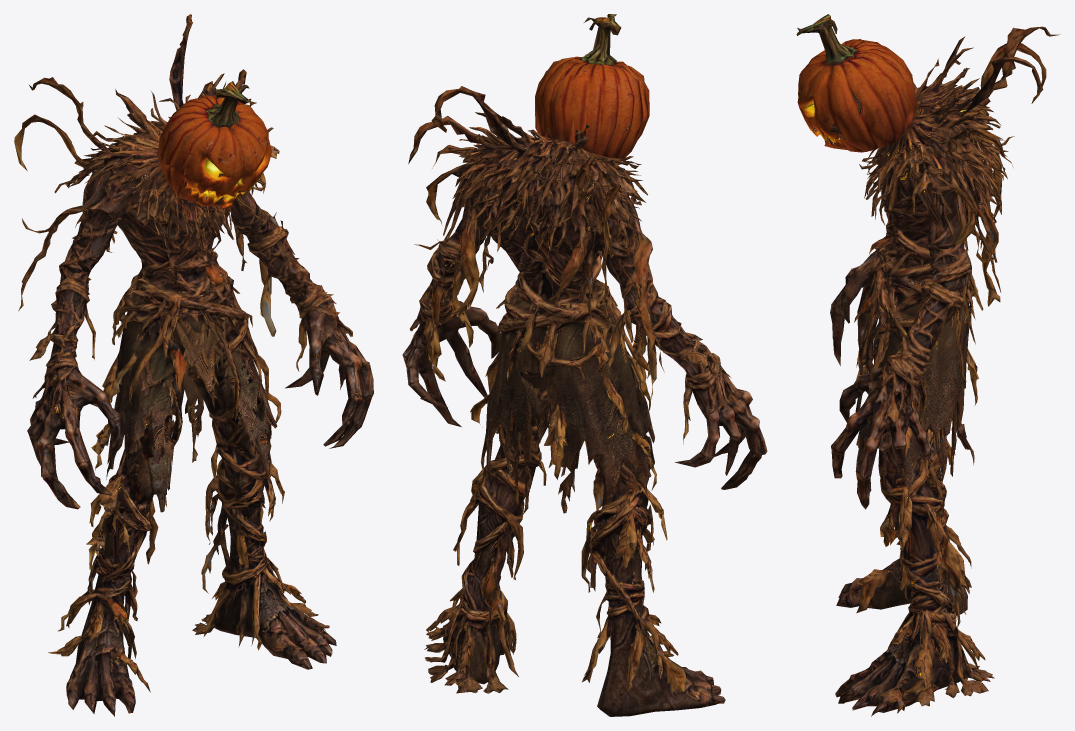
Rendered from pumpkin.glb.
3 renders of one model, left to right at view 1: azimuth 30°, elevation 25°; view 2: azimuth 150°, elevation 25°; view 3: azimuth 270°, elevation 25°, orthographic. The views are drawn at different scales.
Parts seen in each view (by area): view 1: pumpkin; view 2: pumpkin; view 3: pumpkin.
Boxes of the visible parts, x1,y1,x2,y2 form: pumpkin: (14,14,373,716); pumpkin: (402,14,767,716); pumpkin: (796,14,1060,716).
Size of the model in its own units: 0.5602 by 0.9777 by 0.3683.
Materials: 1 (1 with a texture image).
